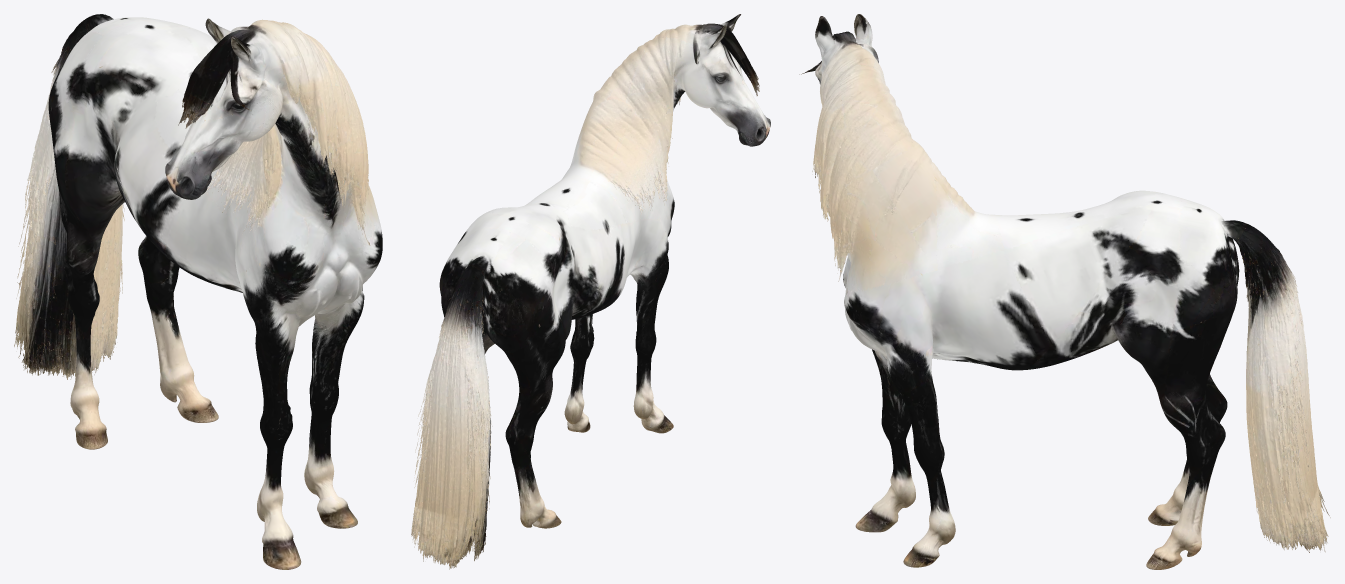
File: horse.glb
3 views of the same model, side by side, from view 1: azimuth 30°, elevation 25°; view 2: azimuth 150°, elevation 25°; view 3: azimuth 270°, elevation 25° (orthographic). The views are drawn at different scales.
Visible parts, largest first — view 1: mesh_0; view 2: mesh_0; view 3: mesh_0.
Boxes of the visible parts, x1,y1,x2,y2 form: mesh_0: (14, 14, 382, 569); mesh_0: (411, 14, 770, 569); mesh_0: (799, 14, 1330, 569).
Bounding box in the file's own units: 0.8515 × 1.89 × 1.88.
1 material, 1 textured.
